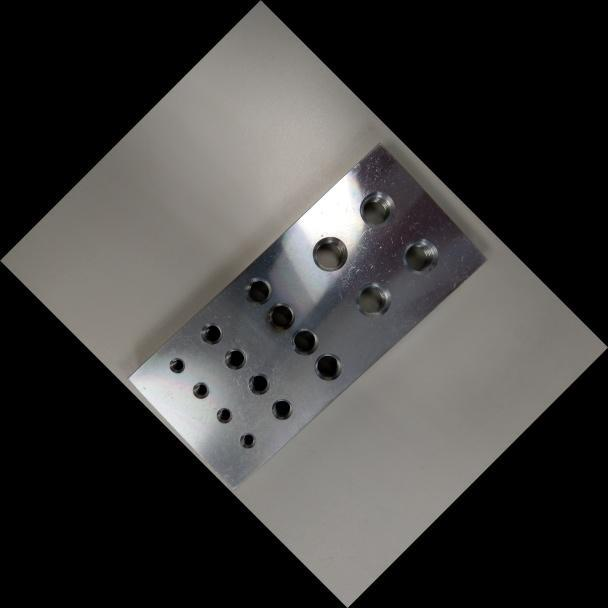hole: (346, 272, 401, 328), (349, 182, 403, 236), (393, 230, 446, 283), (303, 228, 356, 281), (306, 345, 349, 388), (282, 320, 325, 363), (259, 296, 301, 339), (236, 270, 278, 312), (241, 367, 276, 401), (194, 317, 228, 351), (218, 342, 252, 375), (265, 393, 298, 426), (234, 428, 260, 453), (188, 378, 213, 403), (211, 403, 236, 427), (165, 354, 188, 377)
